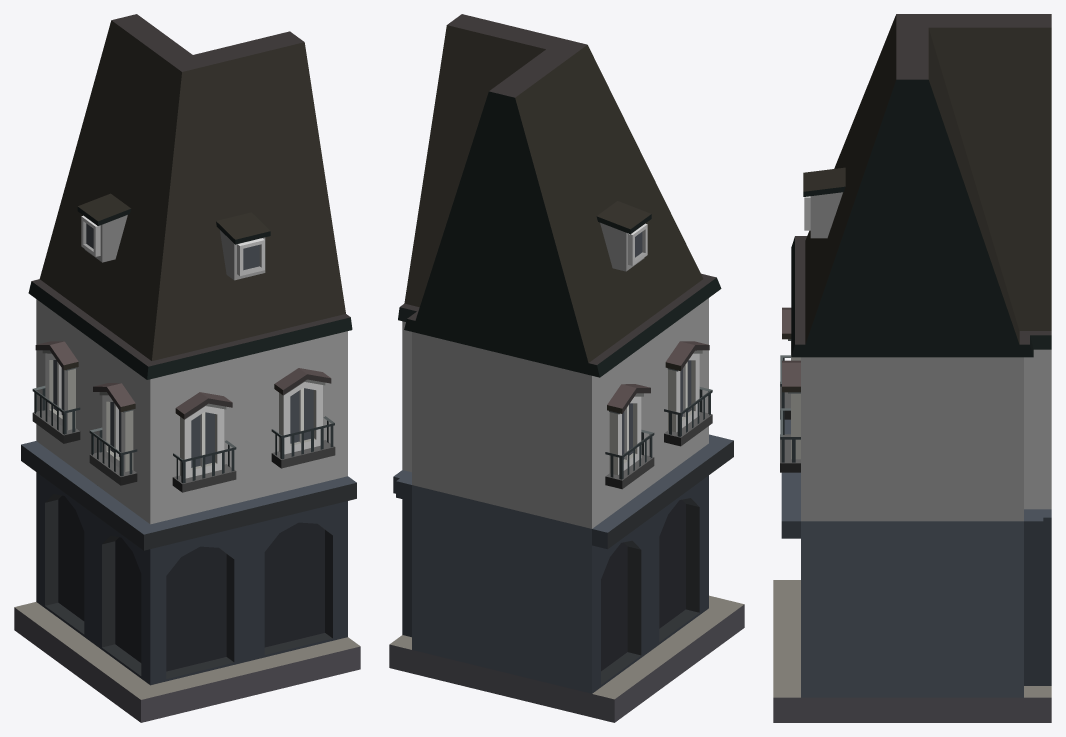
Rendered from TB_CITY_BD_T_Corner_2_D.FBX.
3 views of the same model, side by side, from view 1: azimuth 30°, elevation 25°; view 2: azimuth 150°, elevation 25°; view 3: azimuth 270°, elevation 25° (orthographic). The views are drawn at different scales.
Parts seen in each view (by area): view 1: TB_CITY_BD_T_Corner_2_D; view 2: TB_CITY_BD_T_Corner_2_D; view 3: TB_CITY_BD_T_Corner_2_D.
Boxes of the visible parts, <box> form: TB_CITY_BD_T_Corner_2_D: <box>14,14,360,722</box>; TB_CITY_BD_T_Corner_2_D: <box>389,14,744,722</box>; TB_CITY_BD_T_Corner_2_D: <box>773,14,1051,722</box>.
Bounding box in the file's own units: 7.99 × 20.37 × 7.99.
